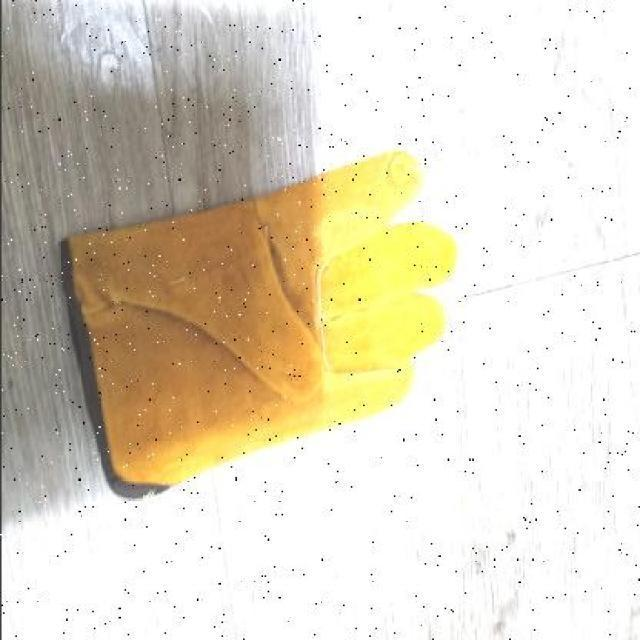glove: (60, 148, 457, 490)
